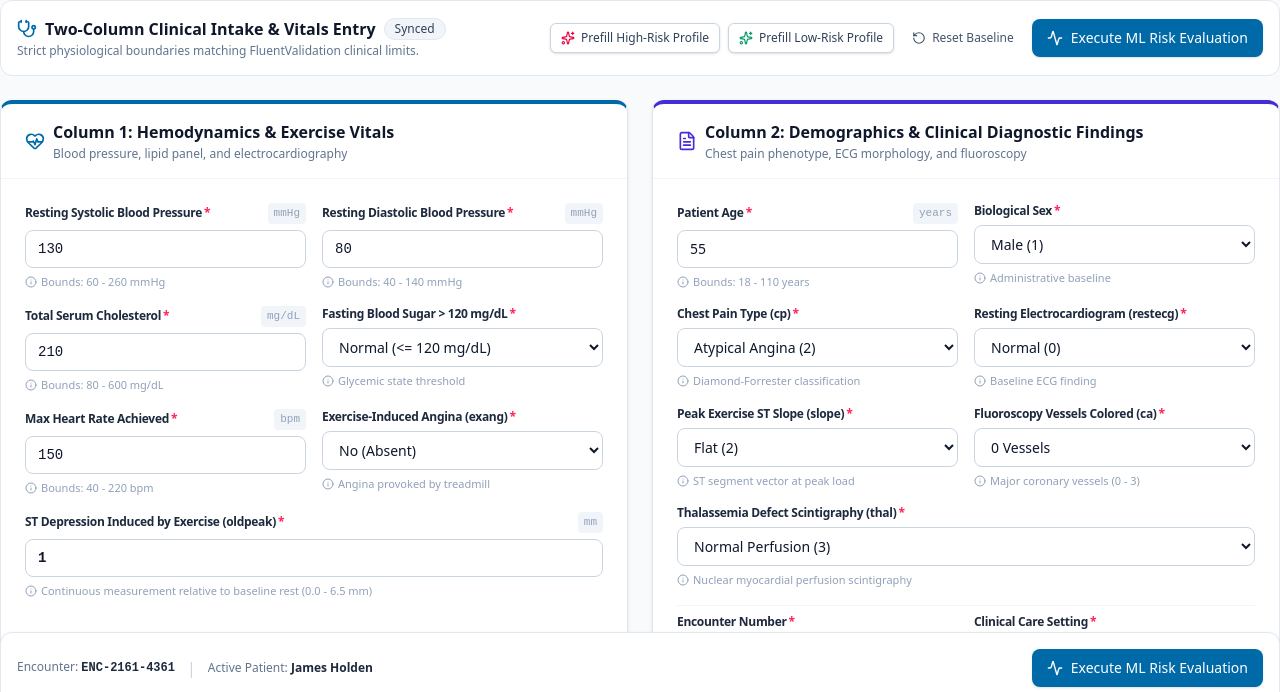
ClinicalIntakeForm Two-Column Component › populates high-risk profile and renders active physiological warning alerts
Click the button "Prefill High-Risk Profile" at (635, 38), box [550,23,720,53]
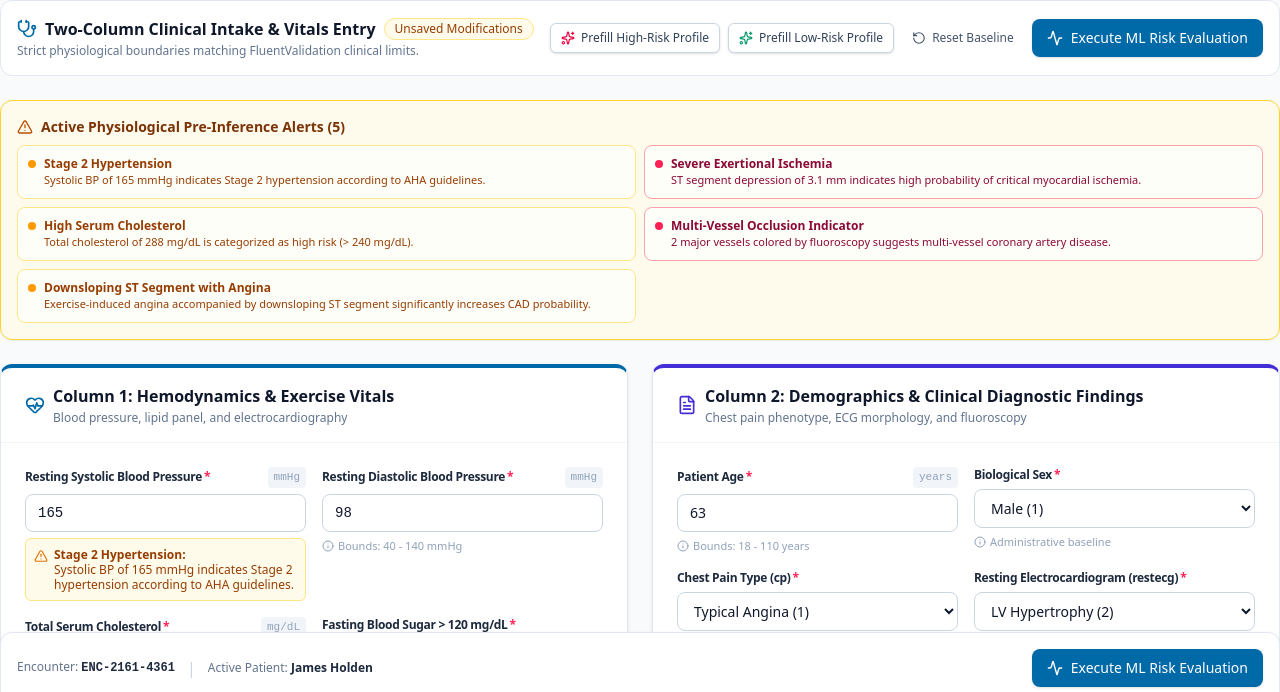
Expected: the number field labelled "Resting Systolic Blood Pressure*" holds "165", [25,494,306,532]
Expected: the text "Active Physiological Pre-Inference Alerts (5)" is shown, [41,117,345,137]
